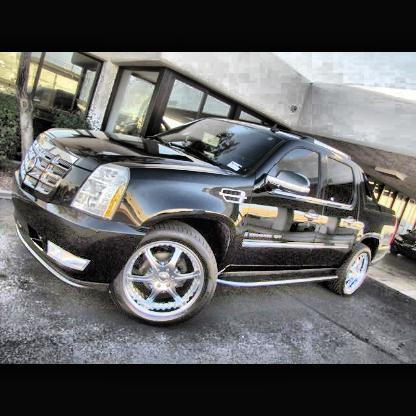Cadillac Escalade EXT Crew Cab 2007: (13, 117, 399, 330)
